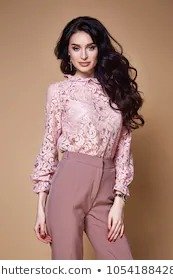C_blouse: (31, 69, 135, 201)
